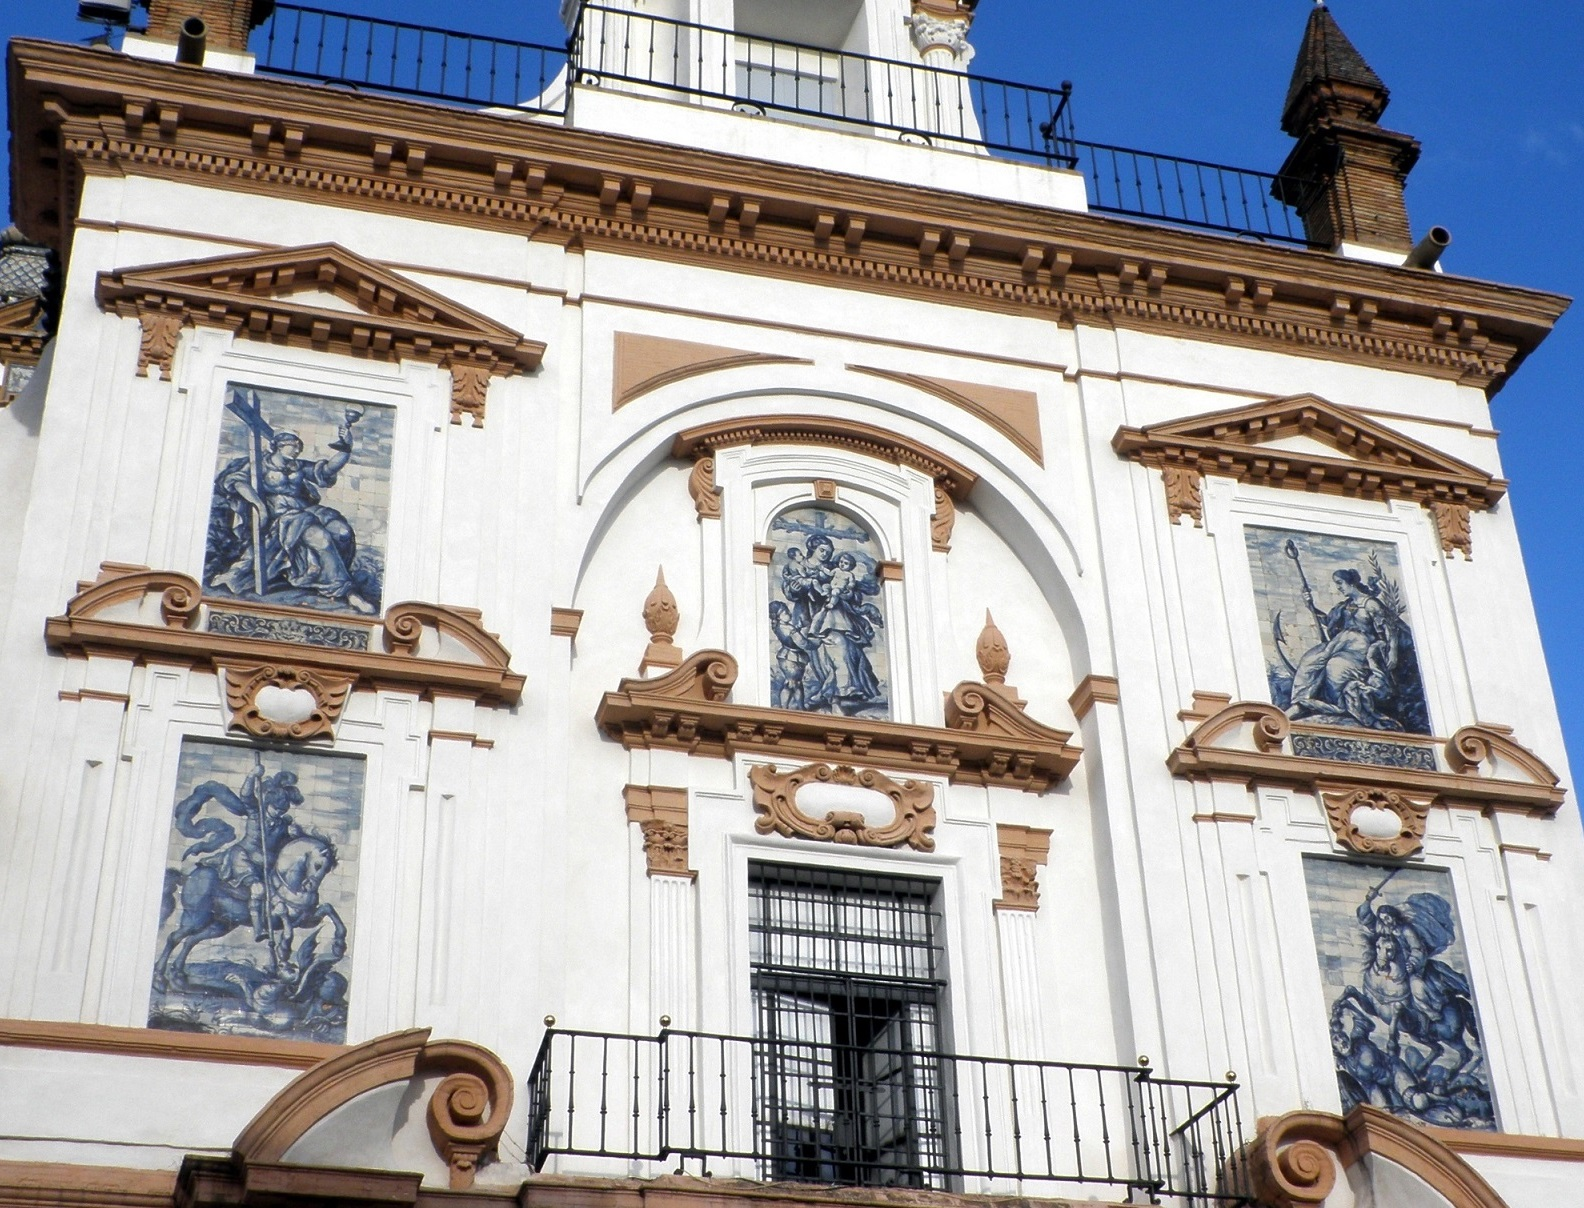fronton: (88, 240, 536, 382), (1108, 384, 1510, 510)
fronton-partido: (213, 1021, 1507, 1208), (599, 648, 1092, 780), (43, 568, 514, 699), (1166, 700, 1567, 817)
vano-adintelado: (684, 782, 1029, 1202)
